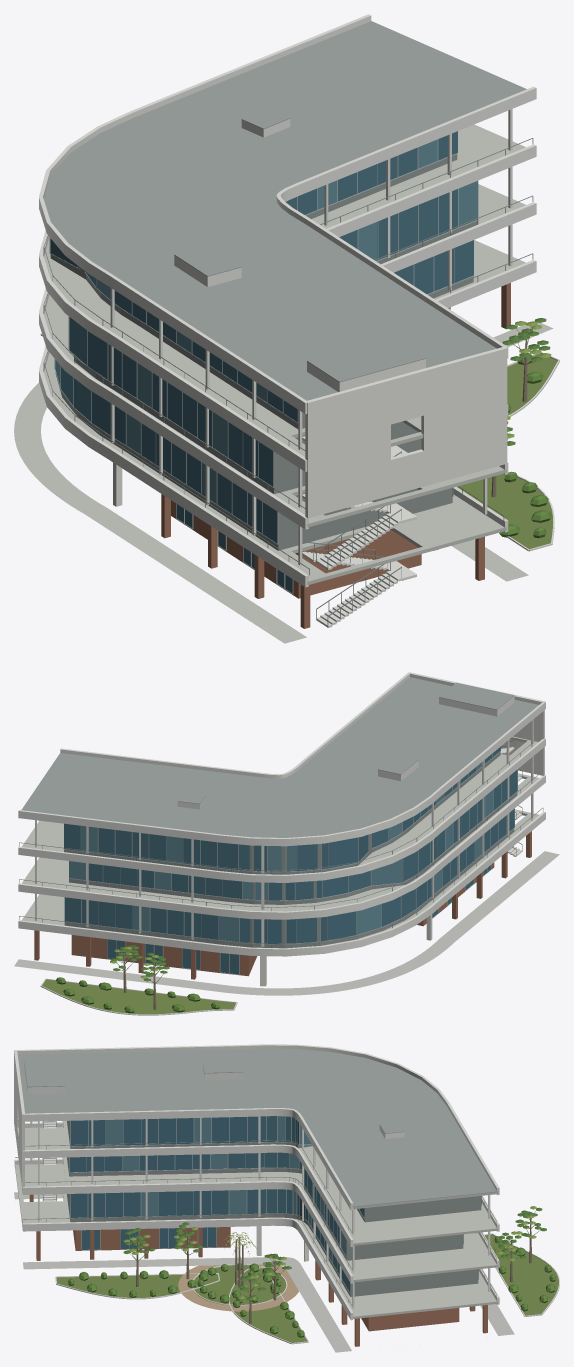
File: activity-lod2.glb
The picture shows the model from 3 angles, top to bottom: view 1: azimuth 30°, elevation 25°; view 2: azimuth 150°, elevation 25°; view 3: azimuth 270°, elevation 25°; orthographic projection. The views are drawn at different scales.
Parts seen in each view (by area): view 1: roof membrane | roof.002, continuous curved bands | white warm ceramic.002, exterior gallery floors | pale paving.002, upper end wall with square opening | white warm ceramic.002, upper curtain walls | blue glazing.002, enclosed floor shadow | reveal shadow.002, site perimeter paving | pale paving.002, brick ground rooms and piers | brick.002, upper curtain walls | blue glazing light.002, connected planted lawns | lawn.002, window frames | window metal.002, south exterior return stairs | white warm ceramic.002 (+4 smaller); view 2: roof membrane | roof.002, continuous curved bands | white warm ceramic.002, upper curtain walls | blue glazing.002, exterior gallery floors | pale paving.002, enclosed floor shadow | reveal shadow.002, site perimeter paving | pale paving.002, upper curtain walls | blue glazing light.002, window frames | window metal.002, brick ground rooms and piers | brick.002, connected planted lawns | lawn.002, gallery railings | rail.002, upper end wall with square opening | white warm ceramic.002 (+4 smaller); view 3: roof membrane | roof.002, continuous curved bands | white warm ceramic.002, exterior gallery floors | pale paving.002, upper curtain walls | blue glazing.002, enclosed floor shadow | reveal shadow.002, connected planted lawns | lawn.002, site perimeter paving | pale paving.002, brick ground rooms and piers | brick.002, upper curtain walls | blue glazing light.002, continuous low hedges | hedge.002, window frames | window metal.002, layered leaf canopy | leaf shadow.002 (+7 smaller).
Boxes of the visible parts, box(x1,y1,x2,y2) form: roof membrane | roof.002: box(44, 21, 526, 400); continuous curved bands | white warm ceramic.002: box(39, 14, 536, 587); exterior gallery floors | pale paving.002: box(44, 124, 525, 585); upper end wall with square opening | white warm ceramic.002: box(305, 346, 507, 518); upper curtain walls | blue glazing.002: box(50, 131, 473, 543); enclosed floor shadow | reveal shadow.002: box(50, 154, 477, 550); site perimeter paving | pale paving.002: box(14, 320, 553, 643); brick ground rooms and piers | brick.002: box(161, 283, 510, 628); upper curtain walls | blue glazing light.002: box(55, 139, 478, 503); connected planted lawns | lawn.002: box(457, 353, 557, 549); window frames | window metal.002: box(49, 139, 477, 594); south exterior return stairs | white warm ceramic.002: box(302, 436, 416, 627); roof membrane | roof.002: box(21, 677, 538, 837); continuous curved bands | white warm ceramic.002: box(18, 672, 545, 986); upper curtain walls | blue glazing.002: box(64, 747, 517, 943); exterior gallery floors | pale paving.002: box(21, 736, 539, 945); enclosed floor shadow | reveal shadow.002: box(64, 752, 517, 948); site perimeter paving | pale paving.002: box(14, 851, 559, 995); upper curtain walls | blue glazing light.002: box(69, 760, 493, 941); window frames | window metal.002: box(63, 746, 517, 974); brick ground rooms and piers | brick.002: box(34, 831, 531, 979); connected planted lawns | lawn.002: box(42, 979, 235, 1014); gallery railings | rail.002: box(19, 735, 543, 947); upper end wall with square opening | white warm ceramic.002: box(409, 672, 544, 775); roof membrane | roof.002: box(18, 1049, 498, 1206); continuous curved bands | white warm ceramic.002: box(14, 1044, 499, 1320); exterior gallery floors | pale paving.002: box(15, 1118, 498, 1318); upper curtain walls | blue glazing.002: box(69, 1116, 481, 1291); enclosed floor shadow | reveal shadow.002: box(67, 1120, 481, 1296); connected planted lawns | lawn.002: box(56, 1234, 558, 1342); site perimeter paving | pale paving.002: box(14, 1192, 514, 1352); brick ground rooms and piers | brick.002: box(29, 1194, 487, 1346); upper curtain walls | blue glazing light.002: box(106, 1116, 463, 1262); continuous low hedges | hedge.002: box(68, 1236, 555, 1337); window frames | window metal.002: box(69, 1116, 481, 1292); layered leaf canopy | leaf shadow.002: box(123, 1207, 546, 1300).
Bounding box in the file's own units: 51.09 × 21.97 × 70.37.
